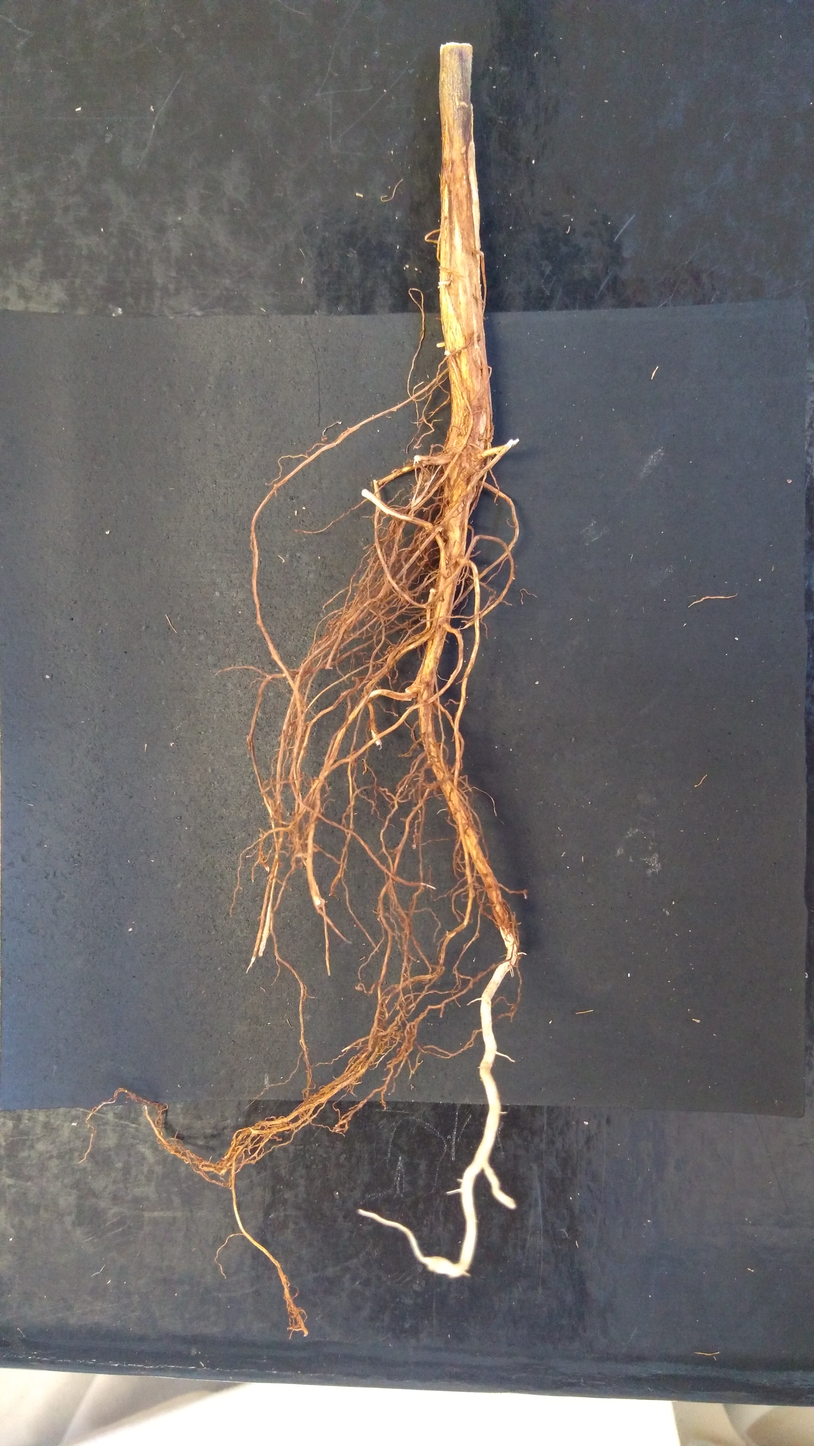nodule: (433, 524, 443, 532), (428, 588, 439, 595), (411, 844, 416, 849)
